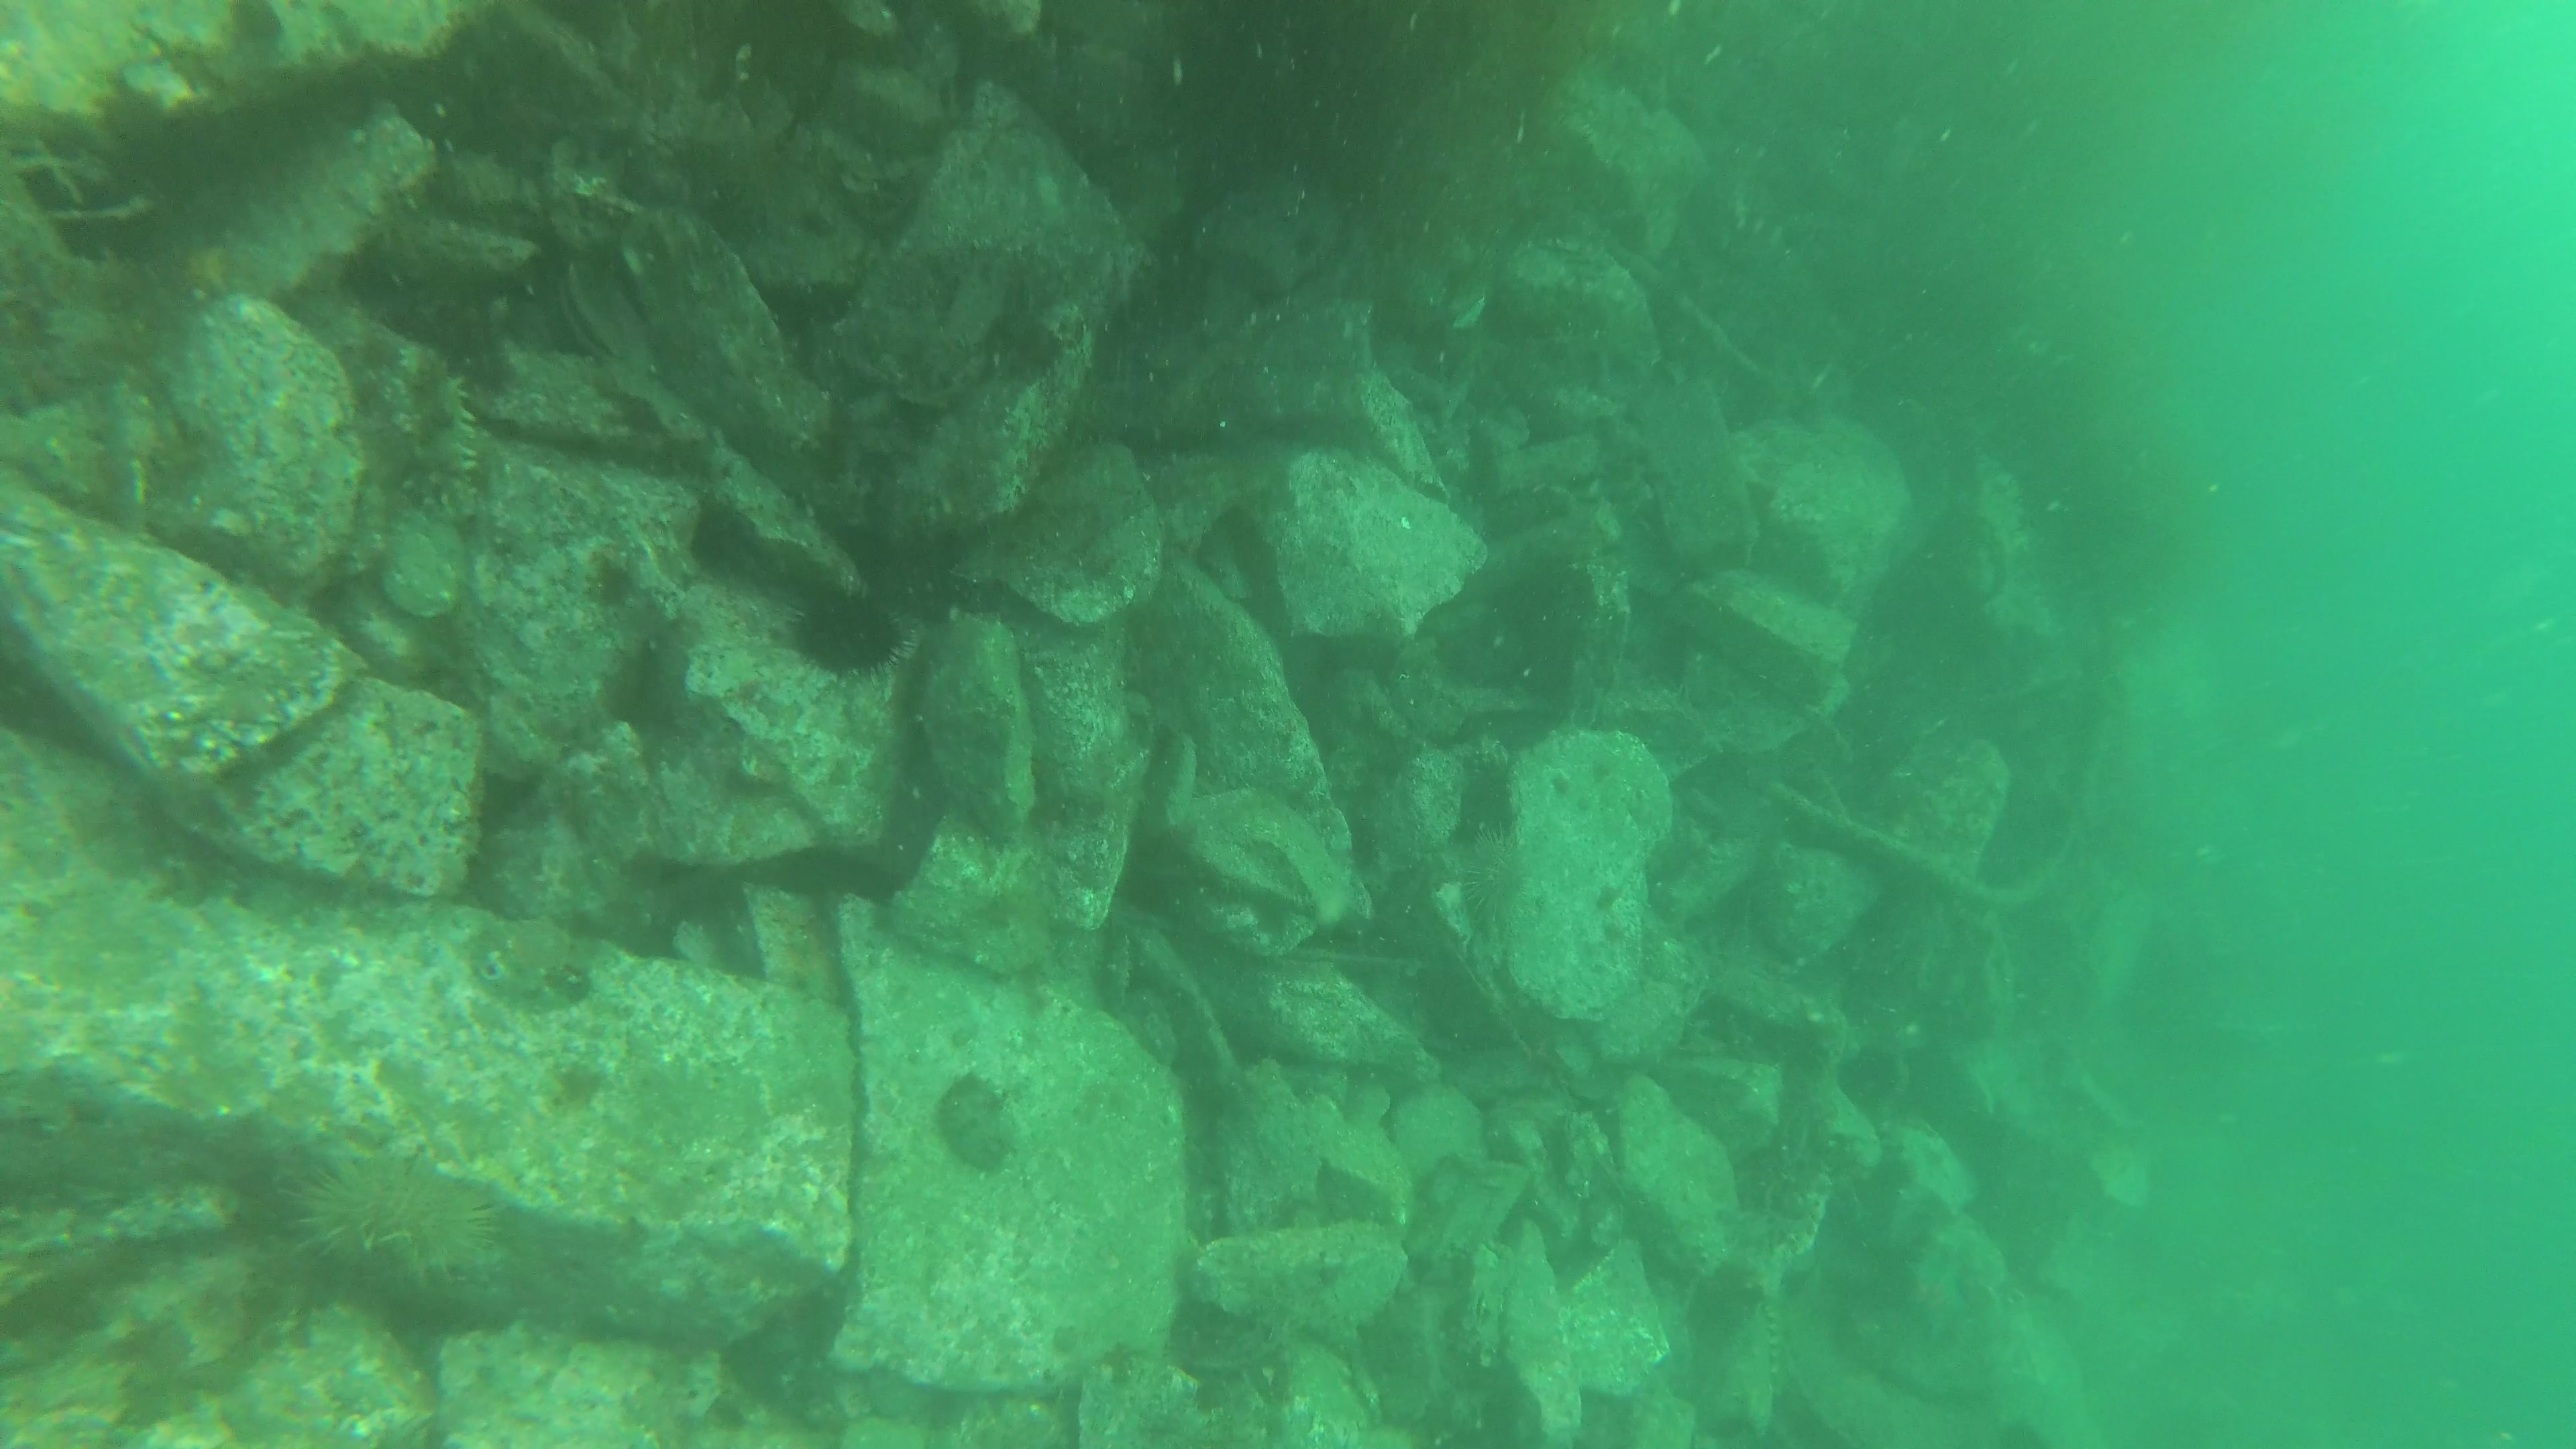echinus: (274, 1152, 515, 1302), (775, 582, 901, 678)
holothurian: (384, 349, 487, 529)
